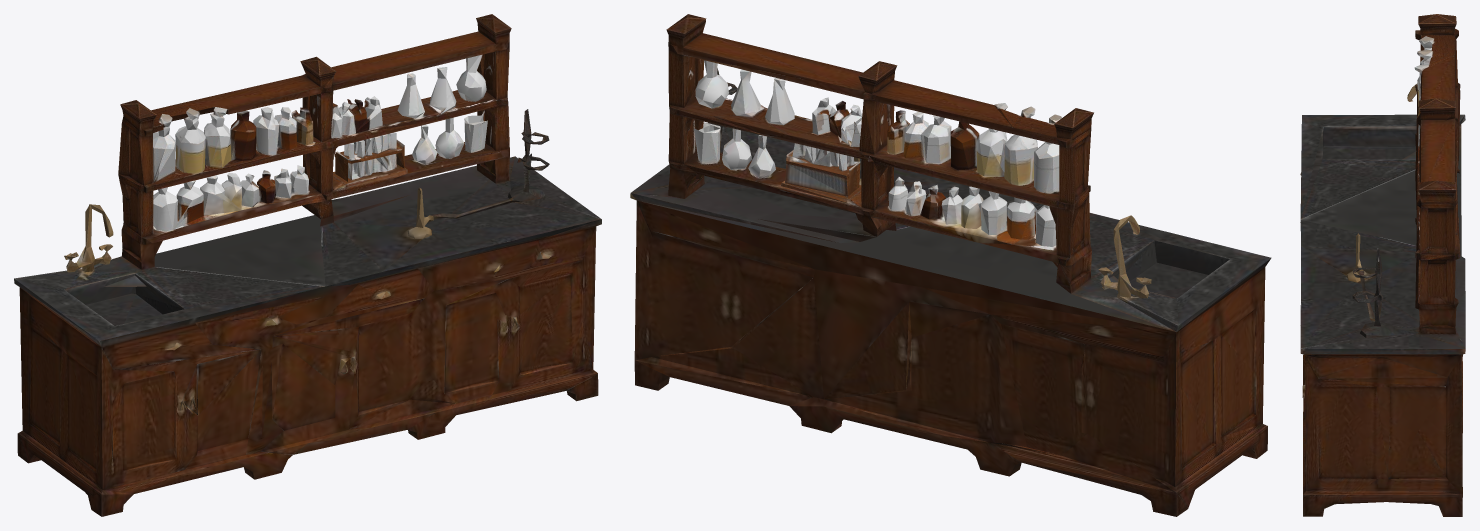
The model's file is bench.glb.
3 views of the same model, side by side, from view 1: azimuth 30°, elevation 25°; view 2: azimuth 150°, elevation 25°; view 3: azimuth 270°, elevation 25° (orthographic). The views are drawn at different scales.
Parts seen in each view (by area): view 1: Mesh_0; view 2: Mesh_0; view 3: Mesh_0.
Part boxes in pixels (<box>): Mesh_0: <box>14,14,601,516</box>; Mesh_0: <box>630,14,1271,516</box>; Mesh_0: <box>1300,14,1465,516</box>.
Size of the model in its own units: 1.9 by 1.22 by 0.5675.
1 material, 1 textured.
